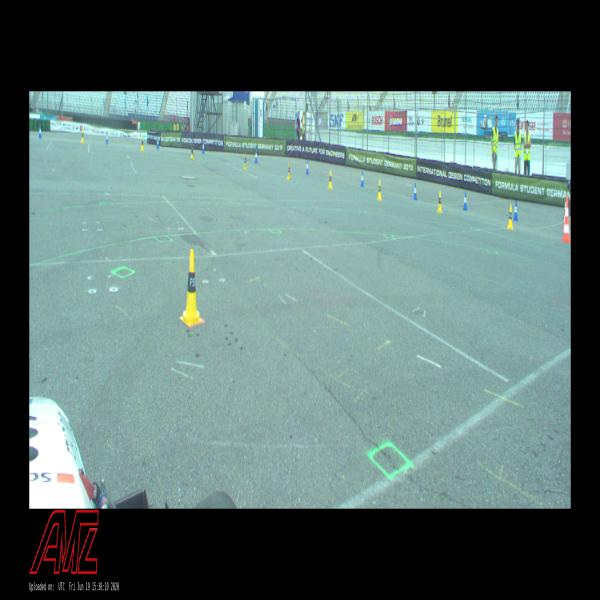blue_cone: (513, 200, 519, 221), (463, 192, 468, 211), (413, 183, 418, 200), (360, 171, 365, 187), (105, 131, 109, 146), (254, 150, 258, 163), (38, 125, 42, 138), (156, 137, 160, 149), (306, 160, 309, 175), (202, 142, 205, 153)
large_orange_cone: (562, 201, 571, 243)
yellow_cone: (180, 249, 203, 327), (506, 204, 514, 230), (436, 191, 442, 214), (377, 180, 382, 201), (328, 170, 333, 190), (286, 162, 291, 180), (244, 153, 248, 170), (190, 143, 194, 160), (141, 136, 145, 151), (81, 128, 84, 143)
